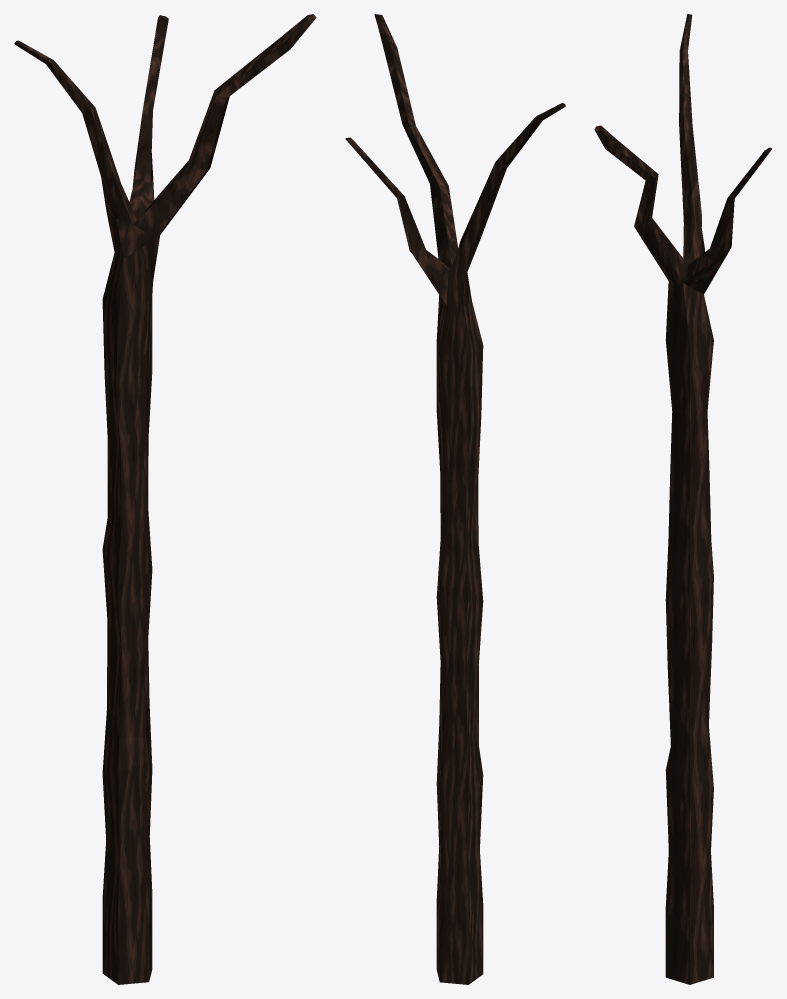
Rendered from Tall_tree.fbx.
The picture shows the model from 3 angles, left to right: view 1: azimuth 30°, elevation 25°; view 2: azimuth 150°, elevation 25°; view 3: azimuth 270°, elevation 25°; orthographic projection. The views are drawn at different scales.
Parts seen in each view (by area): view 1: pCylinder3; view 2: pCylinder3; view 3: pCylinder3.
Part boxes in pixels (left/top/right/bottom): pCylinder3: left=14, top=14, right=316, bottom=984; pCylinder3: left=345, top=14, right=565, bottom=984; pCylinder3: left=594, top=14, right=771, bottom=984.
Bounding box in the file's own units: 25.65 × 93.08 × 16.52.
Materials: 1 (1 with a texture image).
